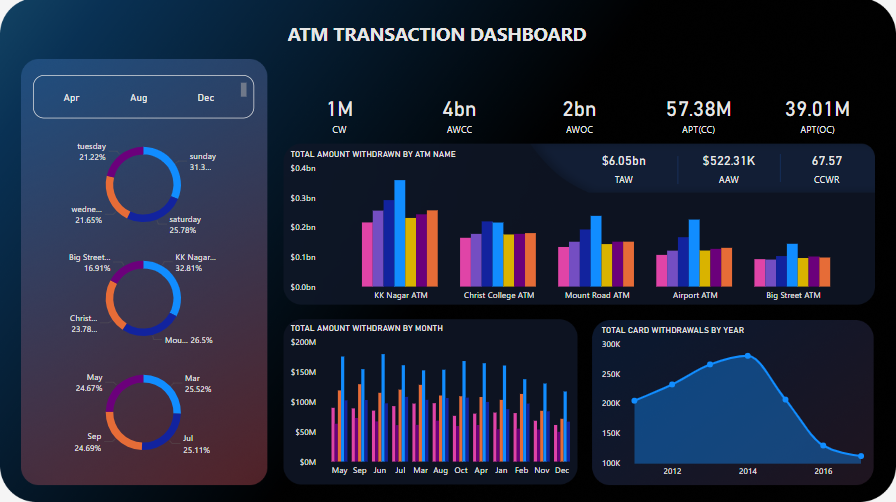

The dashboard page shown, as its layout file describes it:
{"tool":"powerbi","page":{"name":"DASHBOARD","canvas":[1280,720],"ordinal":0},"visuals":[{"type":"card","fields":{"Values":["Sum(ATM_transaction_dataset.Total Card Withdrawals)"]},"box":[406.6,117,158.7,87.8],"z":0,"group":"g1"},{"type":"card","fields":{"Values":["Sum(ATM_transaction_dataset.Amount_Withdrawn_Cub_Card)"]},"box":[577.6,117,158.7,87.8],"z":1000,"group":"g1"},{"type":"card","fields":{"Values":["Sum(ATM_transaction_dataset.Amount_Withdrawn_Other_Card)"]},"box":[748.5,117,158.7,87.8],"z":2000,"group":"g1"},{"type":"card","fields":{"Values":["Sum(ATM_transaction_dataset.Amount per Transaction (CUB Card))"]},"box":[919.5,117,158.7,87.8],"z":3000,"group":"g1"},{"type":"card","fields":{"Values":["Sum(ATM_transaction_dataset.Amount per Transaction (Other Card))"]},"box":[1089,117,158.7,87.8],"z":4000,"group":"g1"},{"type":"clusteredColumnChart","title":"TOTAL AMOUNT WITHDRAWN BY ATM NAME","fields":{"Category":["ATM_transaction_dataset.Atm_Name"],"Y":["Sum(ATM_transaction_dataset.Total_Amount_Withdrawn)"],"Series":["ATM_transaction_dataset.Weekday"]},"box":[410,212.7,840.9,226.6],"z":5000},{"type":"clusteredColumnChart","title":"TOTAL AMOUNT WITHDRAWN BY MONTH","fields":{"Category":["ATM_transaction_dataset.Month"],"Y":["Sum(ATM_transaction_dataset.Total_Amount_Withdrawn)"],"Series":["ATM_transaction_dataset.Atm_Name"]},"box":[410,461.4,421.2,228],"z":6000,"group":"g1"},{"type":"card","fields":{"Values":["Sum(ATM_transaction_dataset.Total_Amount_Withdrawn)"]},"box":[831.2,204.3,122.3,68.1],"z":7000,"group":"g1"},{"type":"card","fields":{"Values":["Avg(ATM_transaction_dataset.Total_Amount_Withdrawn)"]},"box":[979.9,204.3,122.3,68.1],"z":8000,"group":"g1"},{"type":"card","fields":{"Values":["Avg(ATM_transaction_dataset.Cub_Card_Withdrawals)"]},"box":[1120.3,204.3,122.3,68.1],"z":9000,"group":"g1"},{"type":"areaChart","title":"TOTAL CARD WITHDRAWALS BY YEAR","fields":{"Category":["ATM_transaction_dataset.Transaction_Date.Variation.Date Hierarchy.Year","ATM_transaction_dataset.Transaction_Date.Variation.Date Hierarchy.Month"],"Y":["Sum(ATM_transaction_dataset.Total Card Withdrawals)"]},"box":[854.3,463.7,393.8,227.1],"z":10000,"group":"g1"},{"type":"advancedSlicerVisual","fields":{"Values":["ATM_transaction_dataset.Month"]},"box":[47.6,106.4,316,61.9],"z":11000,"group":"g2"},{"type":"donutChart","fields":{"Category":["ATM_transaction_dataset.Weekday"],"Y":["Sum(ATM_transaction_dataset.Total_Amount_Withdrawn)"]},"box":[93.1,184.9,223.8,155.7],"z":12000,"group":"g2"},{"type":"donutChart","fields":{"Y":["Sum(ATM_transaction_dataset.Total Card Withdrawals)"],"Category":["ATM_transaction_dataset.Atm_Name"]},"box":[93.1,347.5,223.8,155.7],"z":13000,"group":"g2"},{"type":"donutChart","fields":{"Y":["Sum(ATM_transaction_dataset.Amount_Withdrawn_Cub_Card)"],"Category":["ATM_transaction_dataset.Month"]},"box":[93.1,511.5,223.8,155.7],"z":14000,"group":"g2"},{"type":"textbox","box":[406.5,23.8,465.3,50.8],"z":15000,"group":"g1"},{"type":"group","id":"g1","title":"Group 1","box":[47.6,23.8,1200.6,667],"z":15001},{"type":"group","id":"g2","title":"Group 2","box":[47.6,106.4,316,560.8],"z":15002,"group":"g1"}]}

Visuals, with their boxes in screenshot pixels (x1, y1, x2, y2), scaled from the page's 1280x720 canvas onto the 896x502 screenshot:
card - Sum(ATM_transaction_dataset.Total Card Withdrawals): [285,82,396,143]
card - Sum(ATM_transaction_dataset.Amount_Withdrawn_Cub_Card): [404,82,515,143]
card - Sum(ATM_transaction_dataset.Amount_Withdrawn_Other_Card): [524,82,635,143]
card - Sum(ATM_transaction_dataset.Amount per Transaction (CUB Card)): [644,82,755,143]
card - Sum(ATM_transaction_dataset.Amount per Transaction (Other Card)): [762,82,873,143]
"TOTAL AMOUNT WITHDRAWN BY ATM NAME" clusteredColumnChart: [287,148,876,306]
"TOTAL AMOUNT WITHDRAWN BY MONTH" clusteredColumnChart: [287,322,582,481]
card - Sum(ATM_transaction_dataset.Total_Amount_Withdrawn): [582,142,667,190]
card - Avg(ATM_transaction_dataset.Total_Amount_Withdrawn): [686,142,772,190]
card - Avg(ATM_transaction_dataset.Cub_Card_Withdrawals): [784,142,870,190]
"TOTAL CARD WITHDRAWALS BY YEAR" areaChart: [598,323,874,482]
advancedSlicerVisual - ATM_transaction_dataset.Month: [33,74,255,117]
donutChart - ATM_transaction_dataset.Weekday x Sum(ATM_transaction_dataset.Total_Amount_Withdrawn): [65,129,222,237]
donutChart - Sum(ATM_transaction_dataset.Total Card Withdrawals) x ATM_transaction_dataset.Atm_Name: [65,242,222,351]
donutChart - Sum(ATM_transaction_dataset.Amount_Withdrawn_Cub_Card) x ATM_transaction_dataset.Month: [65,357,222,465]
textbox: [285,17,610,52]
"Group 1" group: [33,17,874,482]
"Group 2" group: [33,74,255,465]
